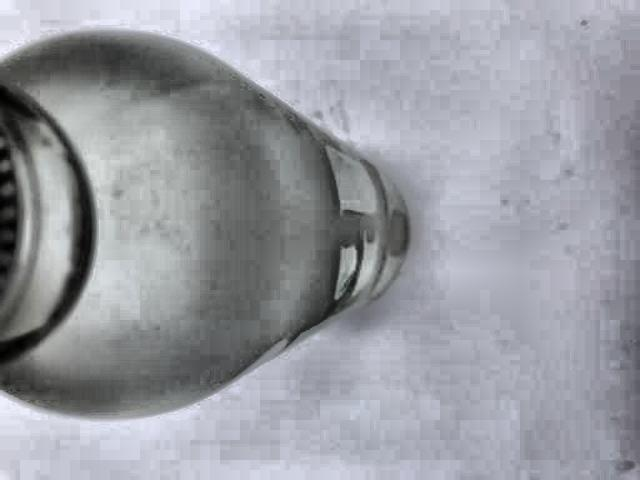Bottles: (0, 25, 426, 426)
